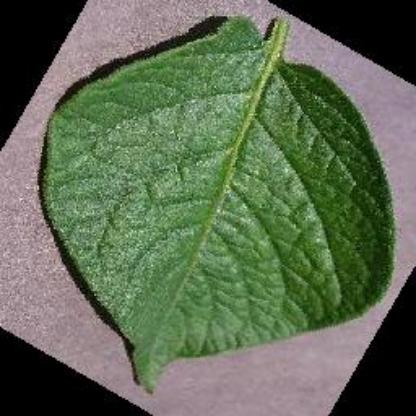Healthy-plant: (38, 14, 400, 393)
